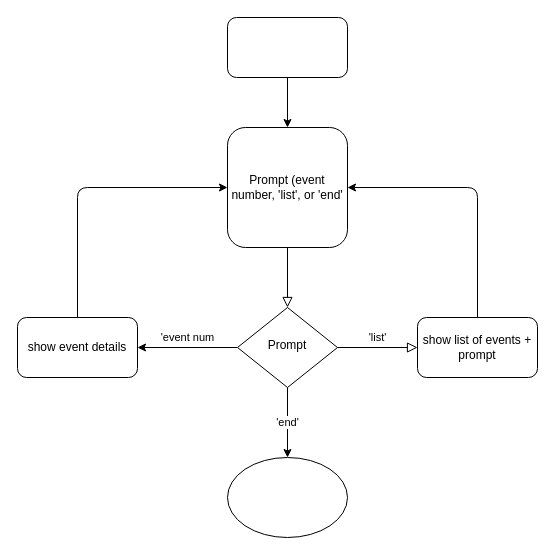
This 555x555 diagram has some shape labels left out. Each missing label, with the centre of its shape:
"End" goes at pixel 287 497.
"Welcome + Initial List of events" goes at pixel 287 47.
